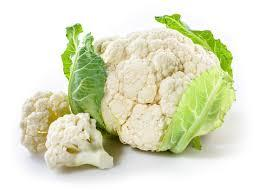non-mango: (92, 27, 227, 153), (19, 89, 71, 153)
